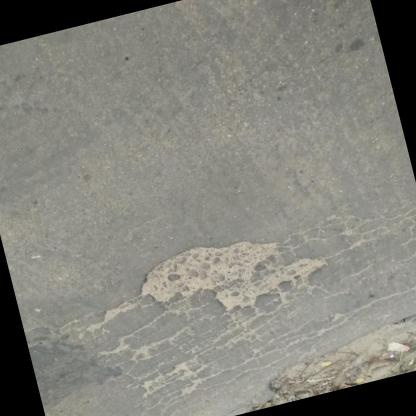pothole: (131, 216, 338, 336)
